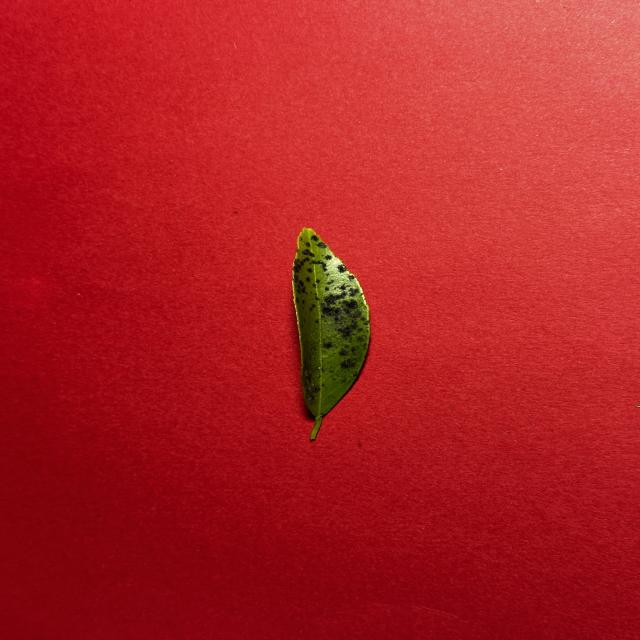sooty_mold: (292, 228, 370, 440)
